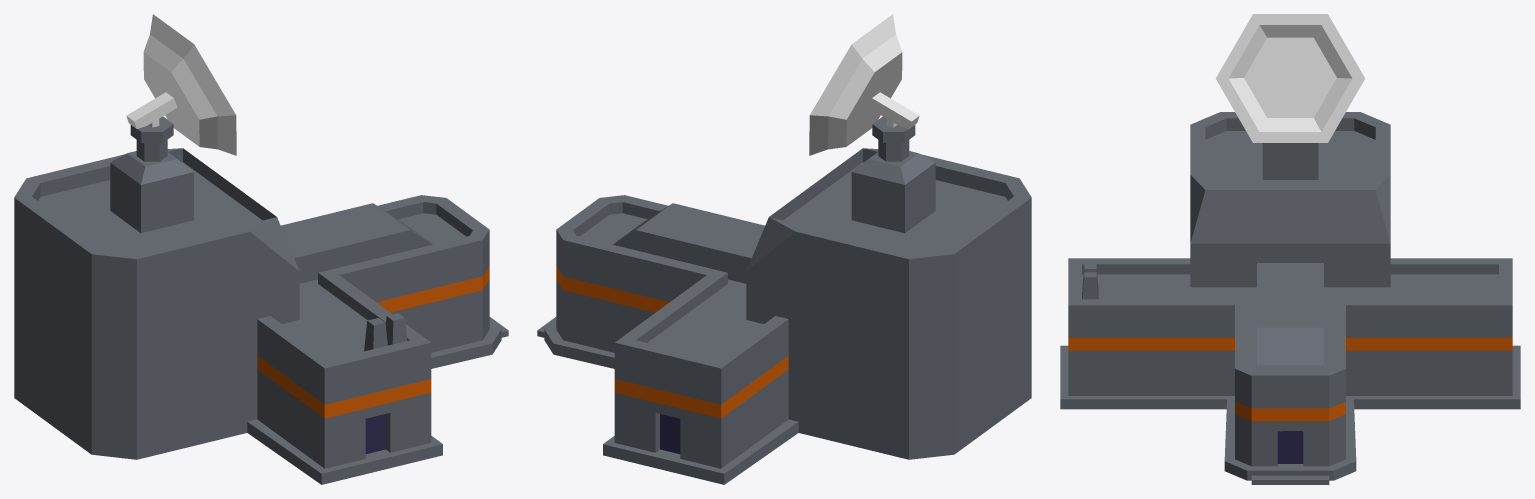
File: Base-col.glb
3 renders of one model, left to right at view 1: azimuth 30°, elevation 25°; view 2: azimuth 150°, elevation 25°; view 3: azimuth 270°, elevation 25°, orthographic. The views are drawn at different scales.
Visible parts, largest first — view 1: Base-col; view 2: Base-col; view 3: Base-col.
Part boxes in pixels (box(x1,y1,x2,y2)): Base-col: box(14, 14, 508, 484); Base-col: box(537, 14, 1031, 484); Base-col: box(1060, 14, 1520, 484).
Size of the model in its own units: 8.16 by 6.6 by 8.28.
